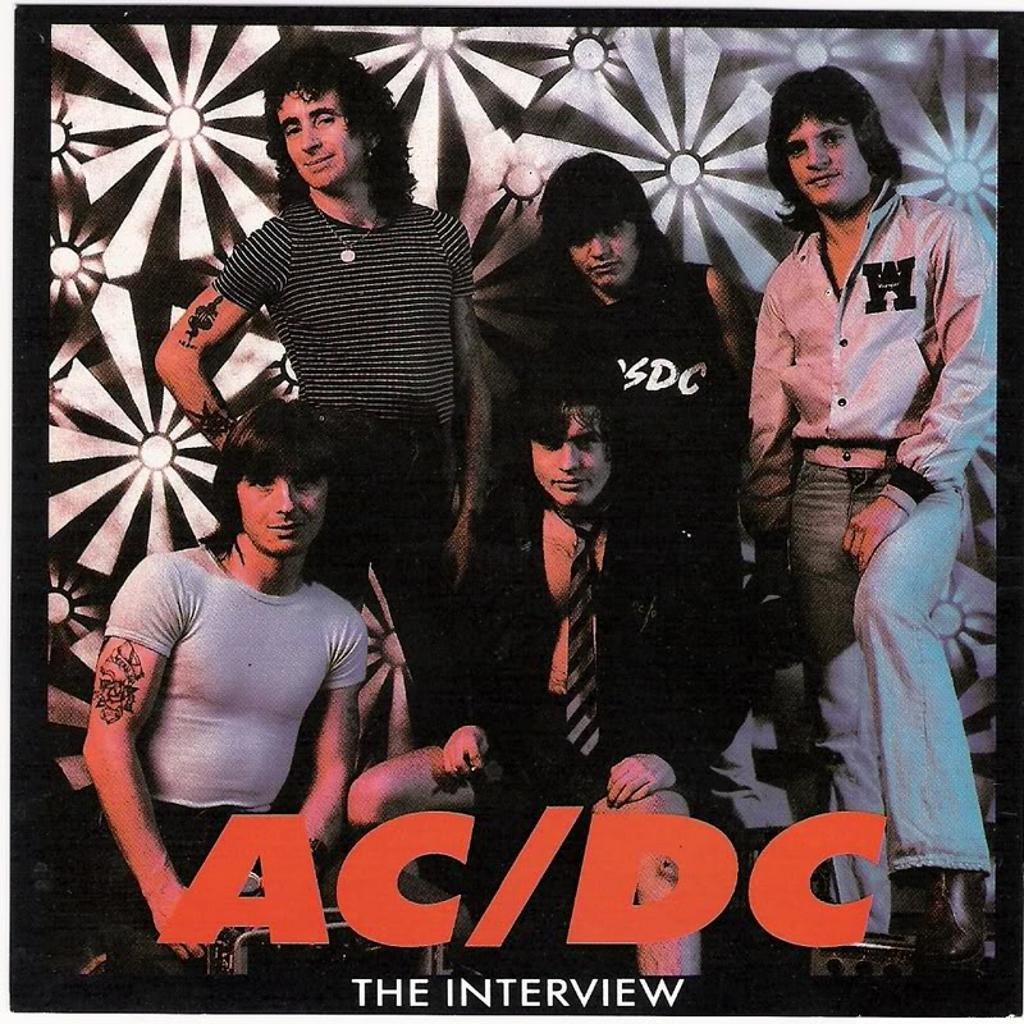face: (242, 444, 324, 552), (532, 396, 608, 506), (274, 82, 352, 184), (782, 100, 856, 204), (566, 190, 636, 288)
